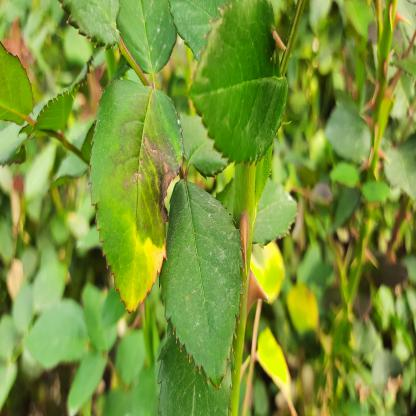downy-mildew: (88, 78, 184, 314)
normal: (191, 2, 287, 156), (168, 182, 238, 386)
